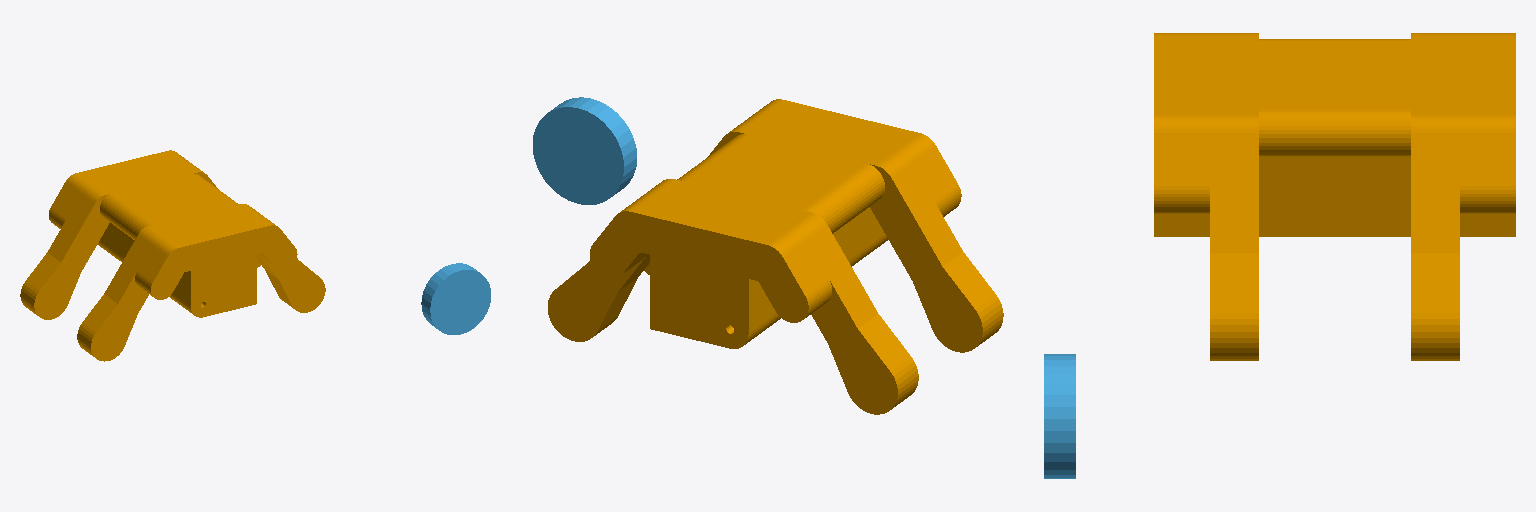
URDF robot description (husar):
<?xml version="1.0"?>

<robot name="husar">	
	<link name="base_link">
		<visual>
			<origin rpy="0 0 0" xyz="0.0 0.0 0"/>
			<geometry>
				<mesh filename="package://lswt_husar_sim/models/rover/husar_chassis.stl"/>
			</geometry>
		</visual>
		<collision>
			<origin rpy="0 0 0" xyz="0.0 0.0 0.0"/>
			<geometry>
				<box size="0.1 0.1 0.1"/>
			</geometry>
		</collision>
		<inertial>
			<mass value="10"/>
			<inertia ixx="1.0" ixy="0.0" ixz="0.0" iyy="100.0" iyz="0.0" izz="1.0"/>
		</inertial>
	</link>
	<gazebo reference="base_link">
		<material>Gazebo/Black</material>
	</gazebo>


<link name="wheel1">
	<visual>
		<origin  rpy="0.0 1.57075 1.57075" xyz="0.34 -0.22 0.0"/>
		<geometry>
			<!-- <mesh filename="package://lswt_husar_sim/models/rover/husar_wheel.stl"/>-->
			<cylinder radius="0.1" length="0.05"/>
      		</geometry>
	</visual>
	<collision>
		<origin rpy="0 0 0" xyz="0 0.0 0.0"/>
      		<geometry>
        		<box size="0.1 0.1 0.1"/>
      		</geometry>
	</collision>
	<inertial>
      		<mass value="3"/>
      		<inertia ixx="1.0" ixy="0.0" ixz="0.0" iyy="100.0" iyz="0.0" izz="1.0"/>
	</inertial>
</link>

<gazebo reference="wheel1">
	<material>Gazebo/Blue</material>
</gazebo>


<joint name="base_link_to_wheel1_joint" type="continuous">
	<axis xyz="0 1 0"/>
	<parent link="base_link"/>
	<child link="wheel1"/>
	<origin xyz="0.34 -0.22 0.0"/>
</joint>


<!-- 

  <joint name="base_link_to_wheel2_joint" type="continuous">
	<axis xyz="0 1 0"/>
    <parent link="base_link"/>
    <child link="wheel2"/>
    <origin xyz="0.22 -0.298 0.177"/>
  </joint>

  <link name="wheel2">
    <visual>
      <origin rpy="0 0 1.57075" xyz="0.0 0.0 0.0"/>
      <geometry>
		<mesh filename="package://rrg_RoMegModel/robots/romeg_bryla/wheel.stl"/>
      </geometry>
	  <material name="black">
       <color rgba="0.41 0.41 0.41 1"/>
   	  </material>
    </visual>
  </link>

  <joint name="base_link_to_wheel3_joint" type="continuous">
	<axis xyz="0 1 0"/>
    <parent link="base_link"/>
    <child link="wheel3"/>
    <origin xyz="-0.22 0.298 0.177"/>
  </joint>

  <link name="wheel3">
    <visual>
      <origin rpy="0 0 1.57075" xyz="0.0 0.0 0.0"/>
      <geometry>
		<mesh filename="package://rrg_RoMegModel/robots/romeg_bryla/wheel.stl"/>
      </geometry>
	  <material name="black">
       <color rgba="0.41 0.41 0.41 1"/>
   	  </material>
    </visual>
  </link>

  <joint name="base_link_to_wheel4_joint" type="continuous">
	<axis xyz="0 1 0"/>
    <parent link="base_link"/>
    <child link="wheel4"/>
    <origin xyz="-0.22 -0.298 0.177"/>
  </joint>

  <link name="wheel4">
    <visual>
      <origin rpy="0 0 1.57075" xyz="0.0 0.0 0.0"/>
      <geometry>
		<mesh filename="package://rrg_RoMegModel/robots/romeg_bryla/wheel.stl"/>
      </geometry>
	  <material name="black">
       <color rgba="0.41 0.41 0.41 1"/>
   	  </material>
    </visual>
  </link>

-->
</robot>

--- What the picture shows (computed from the rendered views, not written in the file) ---
The picture shows the robot from 3 angles, left to right: view 1: azimuth 30°, elevation 25°; view 2: azimuth 150°, elevation 25°; view 3: azimuth 270°, elevation 25°; orthographic projection.
Model husar with 2 links and 1 joints (1 continuous), rooted at base_link, posed all joints at 0.
Links seen in each view (by area): view 1: base_link, wheel1; view 2: base_link, wheel1; view 3: base_link, wheel1.
Link boxes in pixels (bbox=[...]): base_link: bbox=[20, 150, 325, 361]; wheel1: bbox=[421, 263, 490, 334]; base_link: bbox=[548, 99, 1003, 414]; wheel1: bbox=[533, 97, 636, 204]; base_link: bbox=[1154, 33, 1515, 360]; wheel1: bbox=[1044, 354, 1075, 478].
Size in the robot's own frame: 1.15 by 0.754 by 0.3898 metres.
Meshes: 1 distinct files referenced, 1 mesh visuals loaded (1 binary STL).
